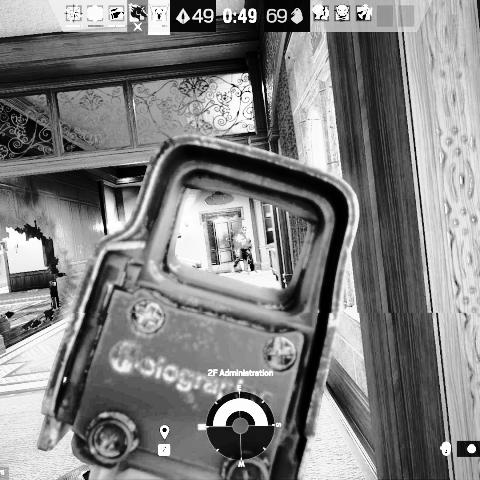Character: (233, 225, 253, 273)
Head: (242, 226, 248, 234)
